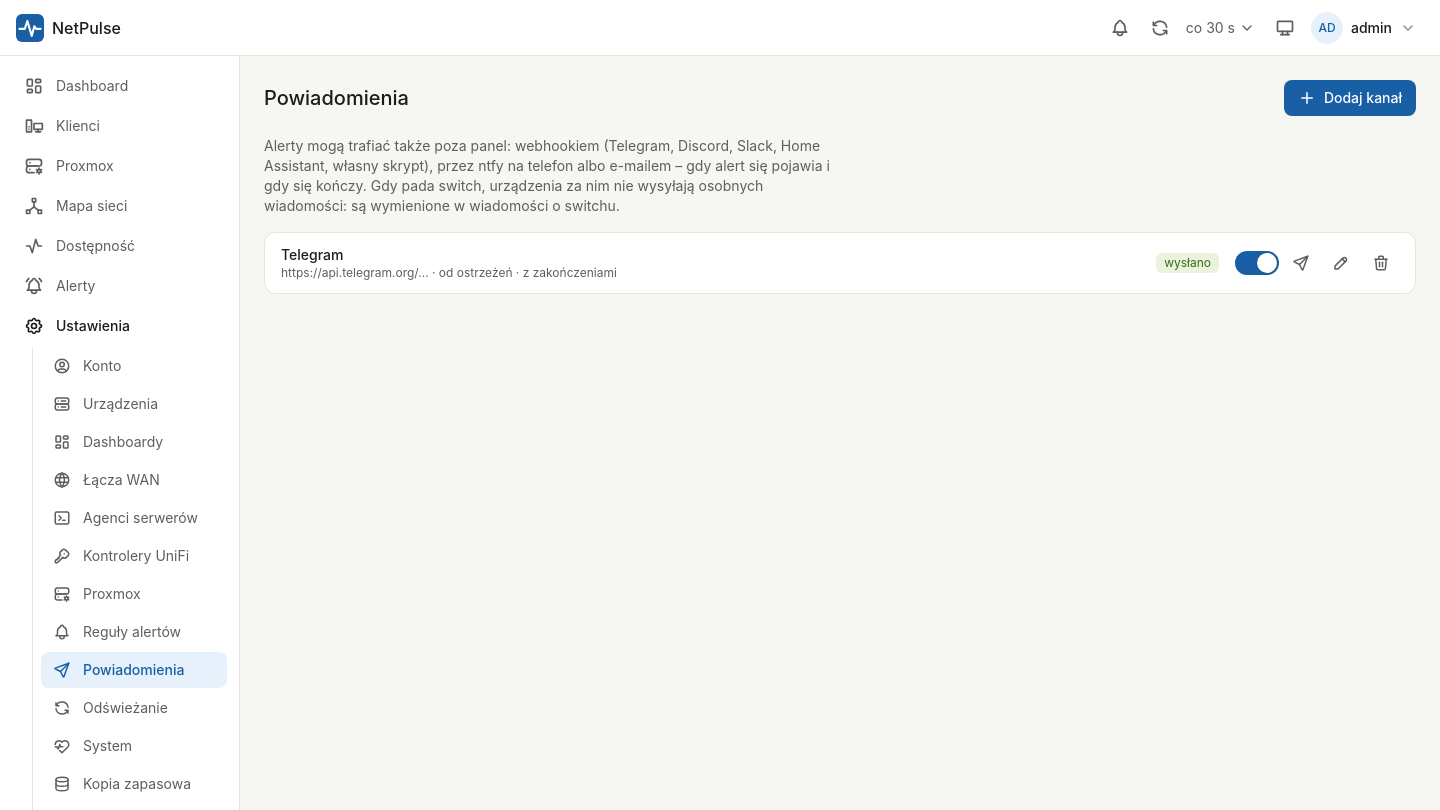
Test: Ustawienia → Powiadomienia › wysyła wiadomość próbną i pokazuje wynik
Click the button named "Wyślij wiadomość próbną Telegram": (1301, 263) x1=1283 y1=245 x2=1319 y2=281
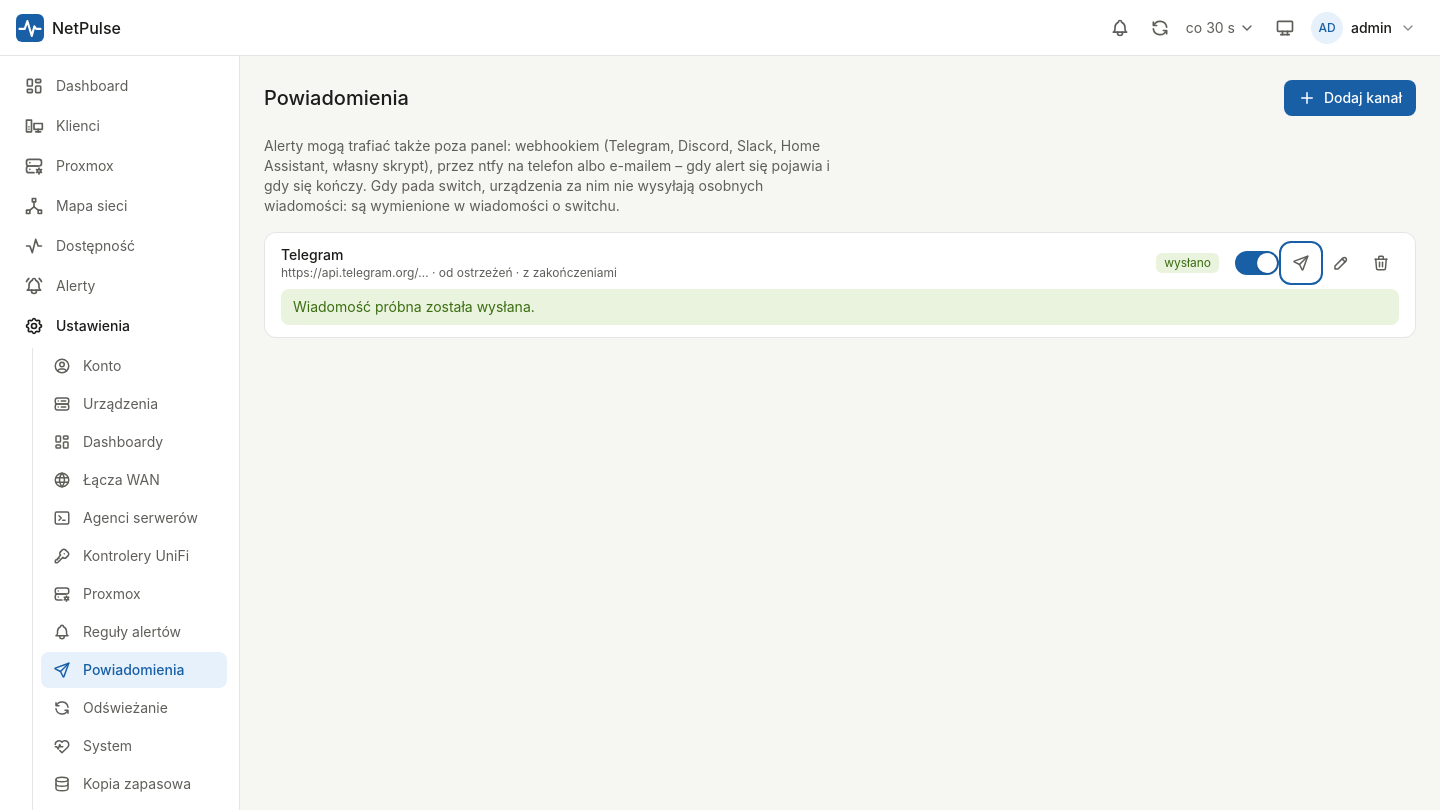
Result: the text "Wiadomość próbna została wysłana." is shown at x1=281 y1=289 x2=1399 y2=325
